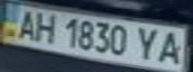0: (109, 23, 133, 57)
1: (57, 16, 81, 48)
3: (90, 20, 112, 54)
8: (75, 17, 96, 52)
A: (154, 29, 187, 65), (9, 7, 42, 40)
H: (30, 11, 60, 44)
Y: (133, 25, 163, 62)
